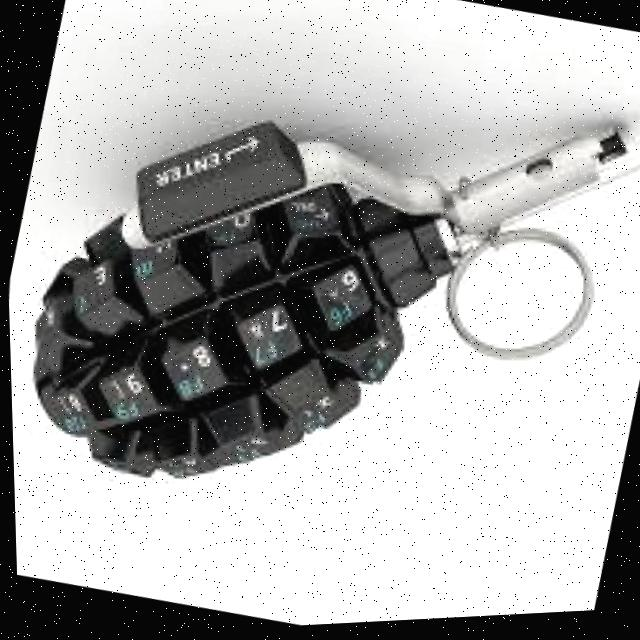grenade: (0, 0, 640, 616)
